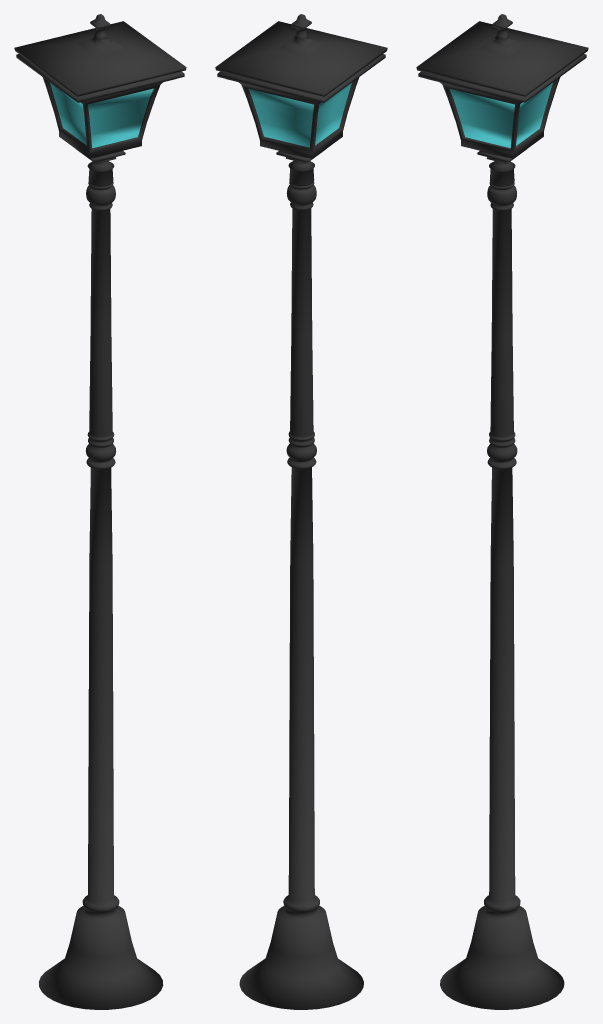
Rendered from lamp.fbx.
3 views of the same model, side by side, from view 1: azimuth 30°, elevation 25°; view 2: azimuth 150°, elevation 25°; view 3: azimuth 330°, elevation 25° (orthographic).
Visible parts, largest first — view 1: Lamp Base; view 2: Lamp Base; view 3: Lamp Base.
Boxes of the visible parts, bbox=[...] form: Lamp Base: bbox=[14, 14, 186, 1009]; Lamp Base: bbox=[215, 14, 387, 1009]; Lamp Base: bbox=[416, 14, 588, 1009].
Size of the model in its own units: 212 by 1799 by 212.
